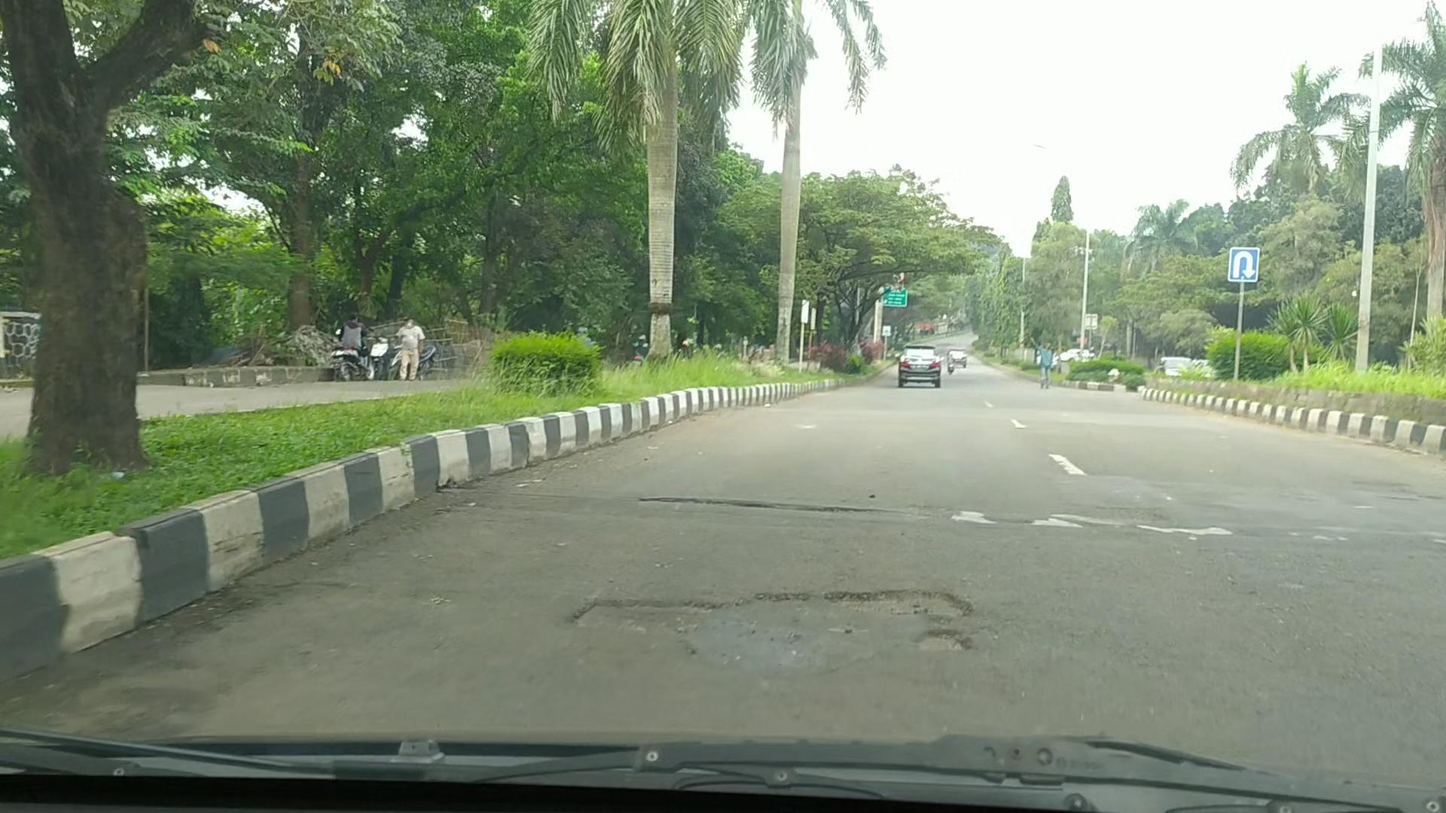pothole: (561, 589, 815, 637), (636, 493, 886, 515), (823, 591, 975, 621), (910, 627, 975, 654)
